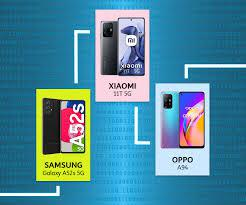Smartphone: (99, 14, 144, 76), (59, 100, 85, 154), (179, 93, 204, 148), (160, 89, 181, 151), (43, 99, 59, 155)
